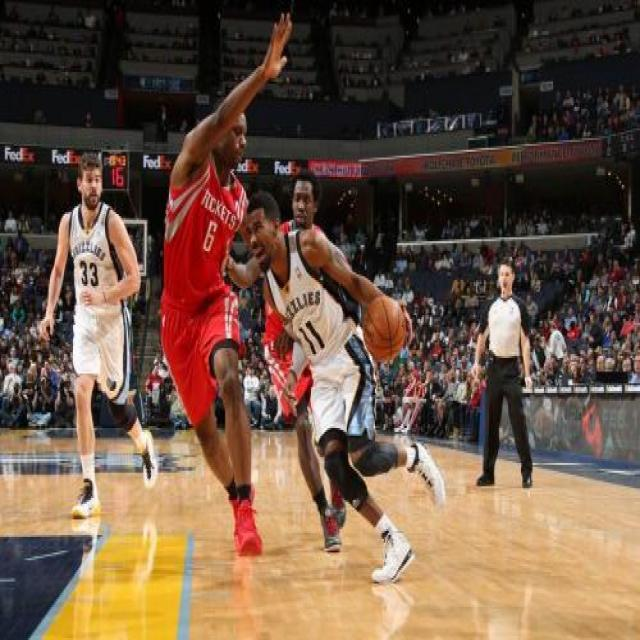rim: (365, 296, 407, 360)
